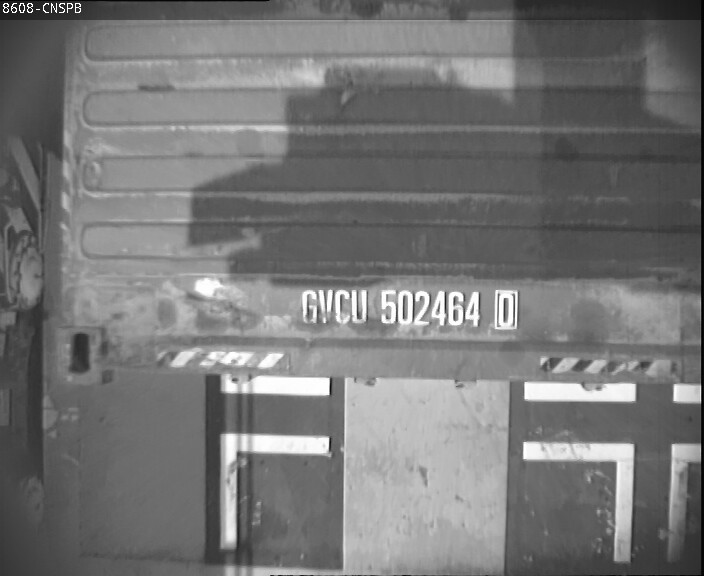groundmarker_1: (522, 441, 704, 561), (219, 370, 335, 551)
